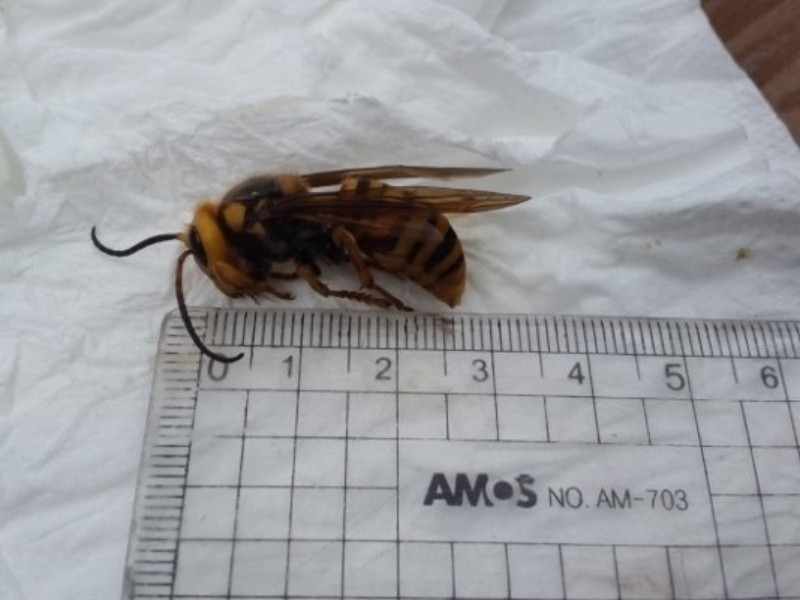asian_giant_hornet: (171, 160, 472, 310)
